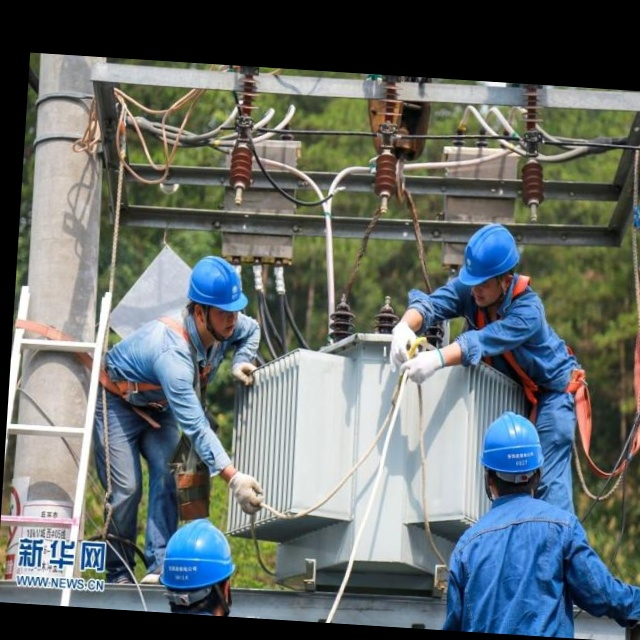Con_Casco: (160, 518, 239, 617), (186, 255, 251, 340)
